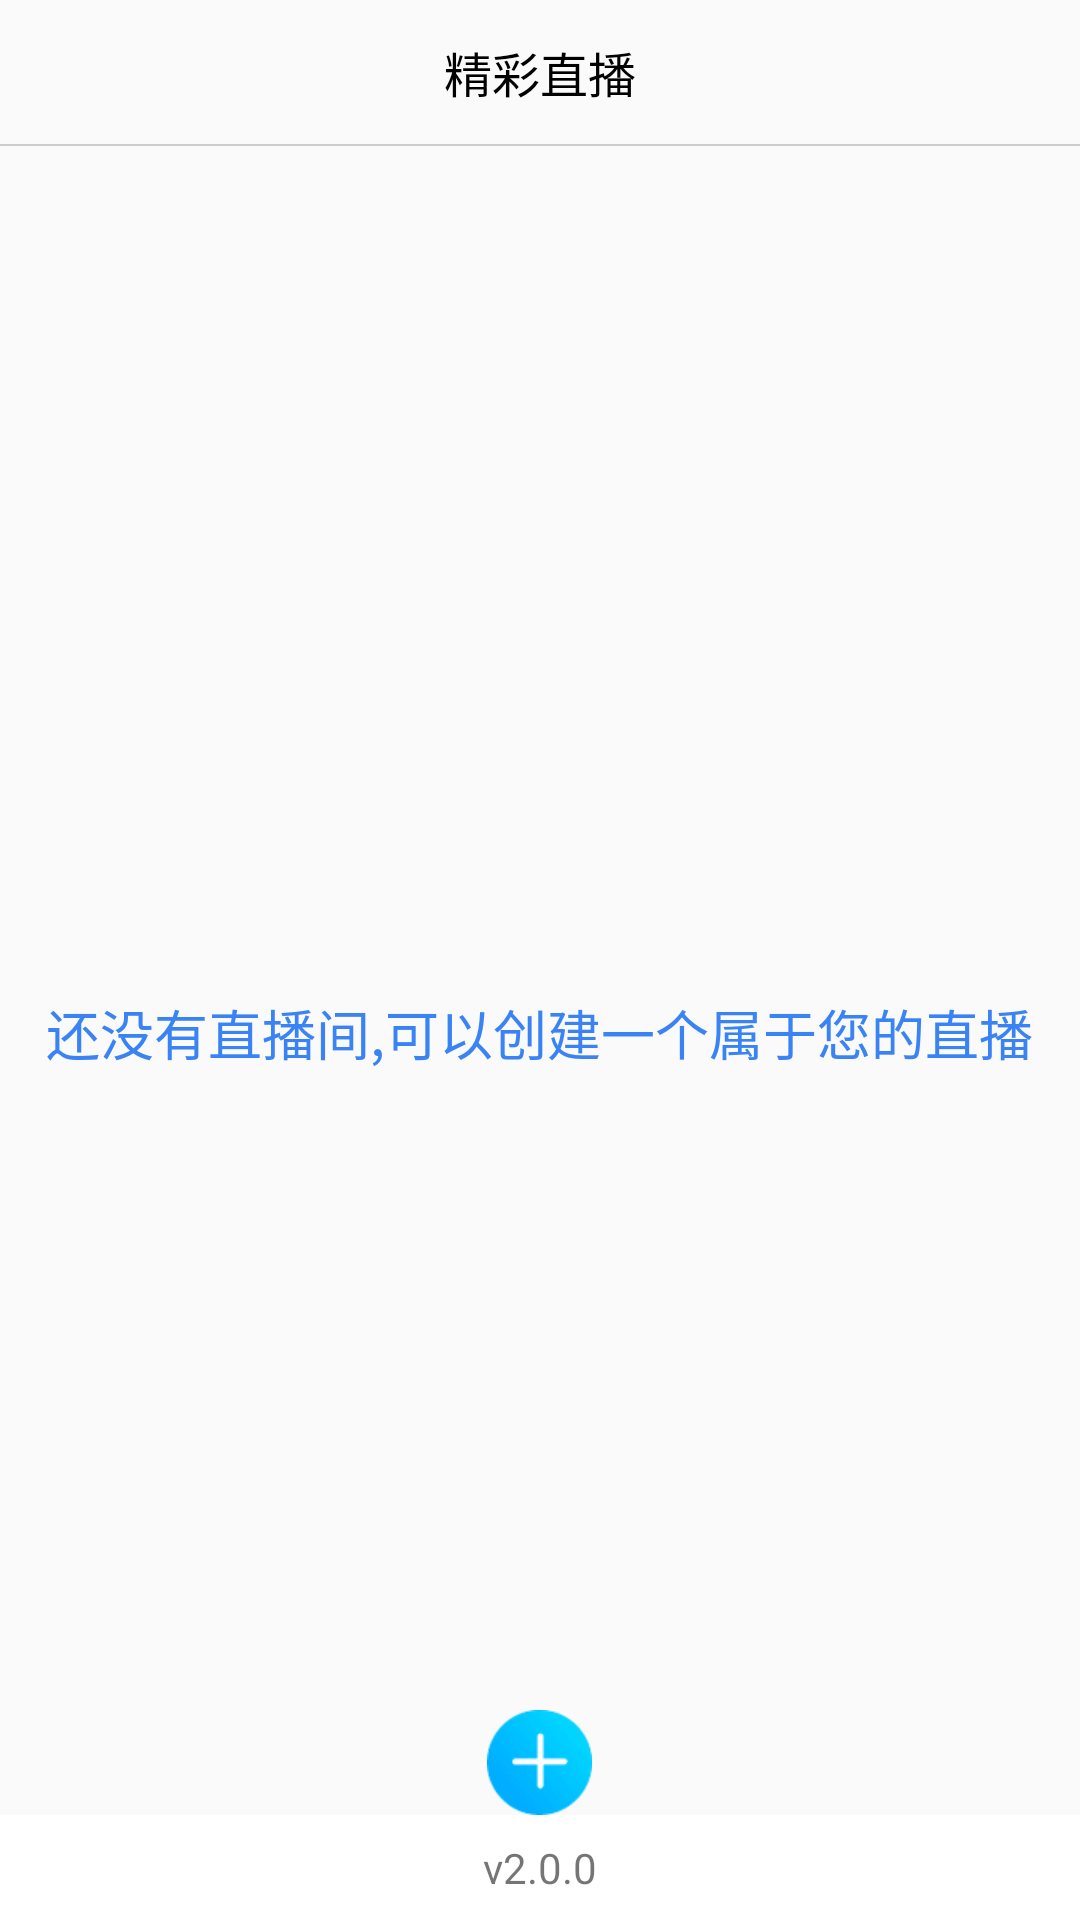

Icon click points for this 1080px x 1920px phone screenshot, format (x,y):
create room: (539,1762)
